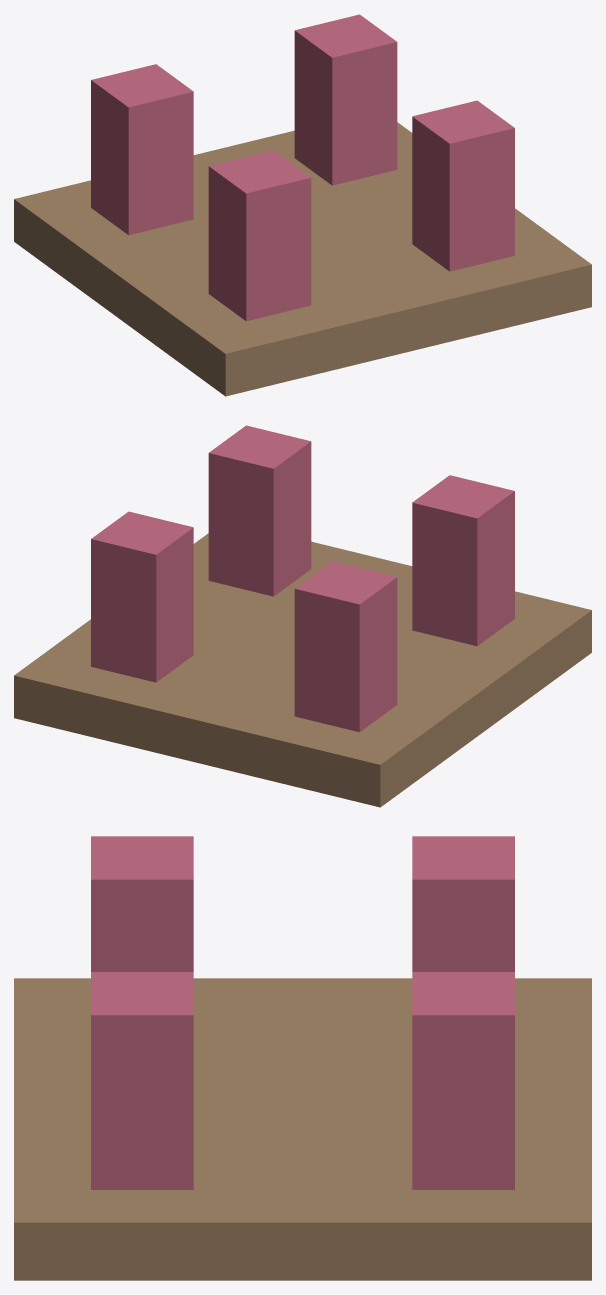
The model's file is Prop_DS_Crop_Bitroot_S2_V0.glb.
The picture shows the model from 3 angles, top to bottom: view 1: azimuth 30°, elevation 25°; view 2: azimuth 150°, elevation 25°; view 3: azimuth 270°, elevation 25°; orthographic projection. The views are drawn at different scales.
Visible parts, largest first — view 1: Cube, Cube.004, Cube.001, Cube.002, Cube.003; view 2: Cube, Cube.003, Cube.002, Cube.001, Cube.004; view 3: Cube, Cube.003, Cube.004, Cube.001, Cube.002.
Part boxes in pixels (x1,y1,x2,y2): Cube: (14, 122, 591, 396); Cube.004: (294, 14, 397, 185); Cube.001: (208, 150, 311, 321); Cube.002: (91, 64, 193, 235); Cube.003: (412, 100, 514, 271); Cube: (14, 533, 591, 807); Cube.003: (208, 425, 311, 596); Cube.002: (294, 561, 397, 732); Cube.001: (412, 475, 514, 646); Cube.004: (91, 511, 193, 682); Cube: (14, 978, 591, 1280); Cube.003: (91, 972, 193, 1189); Cube.004: (412, 972, 514, 1189); Cube.001: (91, 836, 193, 971); Cube.002: (412, 836, 514, 971).
Bounding box in the file's own units: 0.9 × 0.4 × 0.9.
